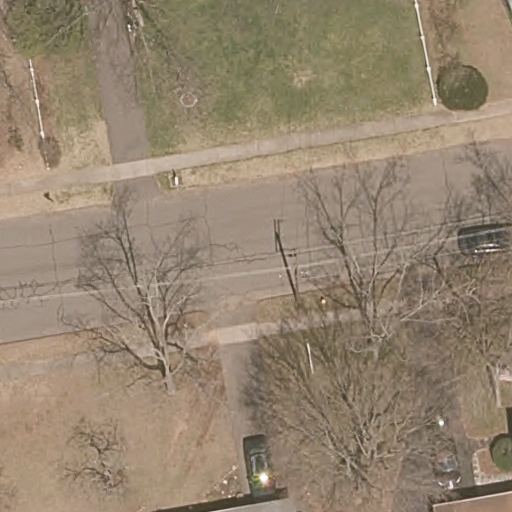DT: (286, 248, 304, 305)
